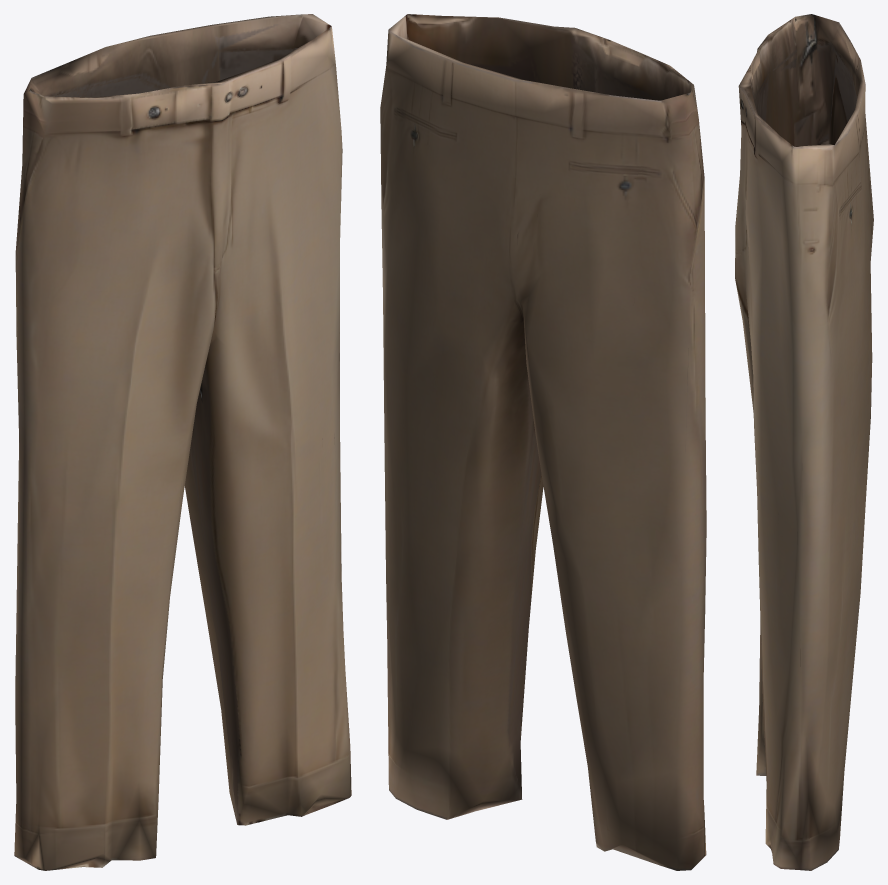
3 views of the same model, side by side, from view 1: azimuth 30°, elevation 25°; view 2: azimuth 150°, elevation 25°; view 3: azimuth 270°, elevation 25° (orthographic). The views are drawn at different scales.
Parts seen in each view (by area): view 1: Mesh1.0; view 2: Mesh1.0; view 3: Mesh1.0.
Part boxes in pixels (x1,y1,x2,y2): Mesh1.0: [14, 14, 351, 870]; Mesh1.0: [380, 14, 706, 870]; Mesh1.0: [735, 14, 873, 870].
Bounding box in the file's own units: 86.5 × 201 × 35.06.
Materials: 1 (1 with a texture image).
